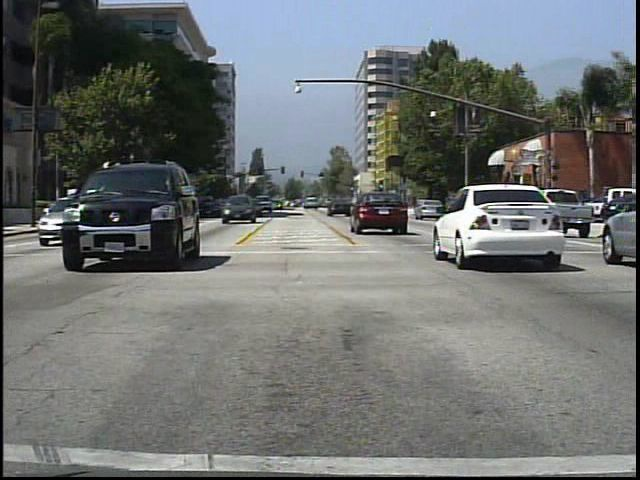person: (544, 191, 563, 228), (500, 188, 517, 224)
